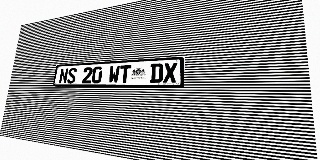plate: (53, 56, 185, 87)
